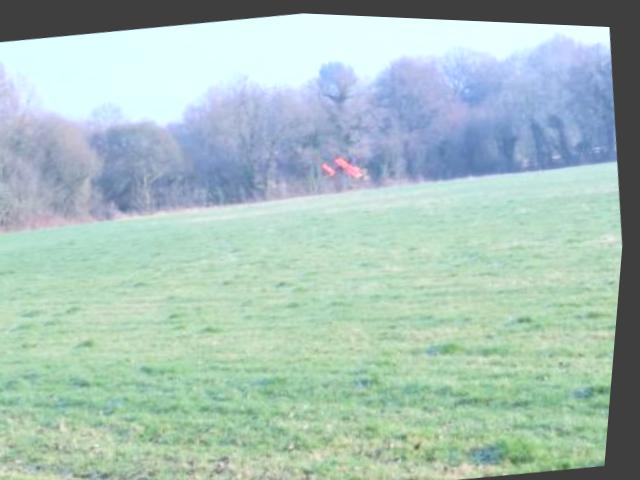uav: (318, 144, 373, 183)
